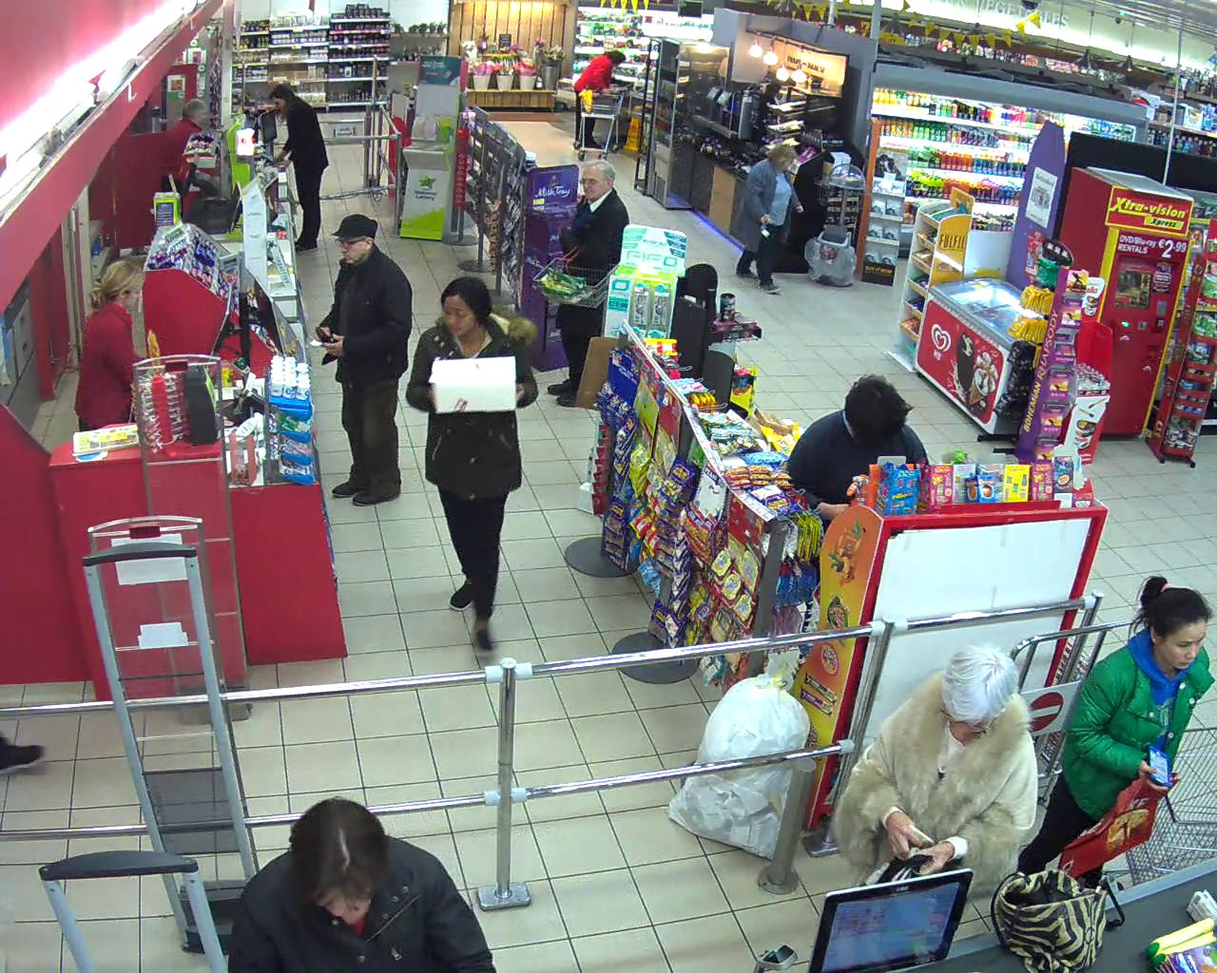carrying-item: (428, 354, 521, 417)
filled-basket: (529, 256, 620, 309)
occupied-checkout-counter: (78, 265, 300, 422), (147, 99, 286, 182)
person: (407, 273, 539, 654), (547, 160, 631, 408)
person-with-carrying-item: (407, 271, 539, 654)
person-with-filled-basket-trolly: (531, 159, 630, 409)
vacant-checkout-counter: (128, 178, 286, 268)
